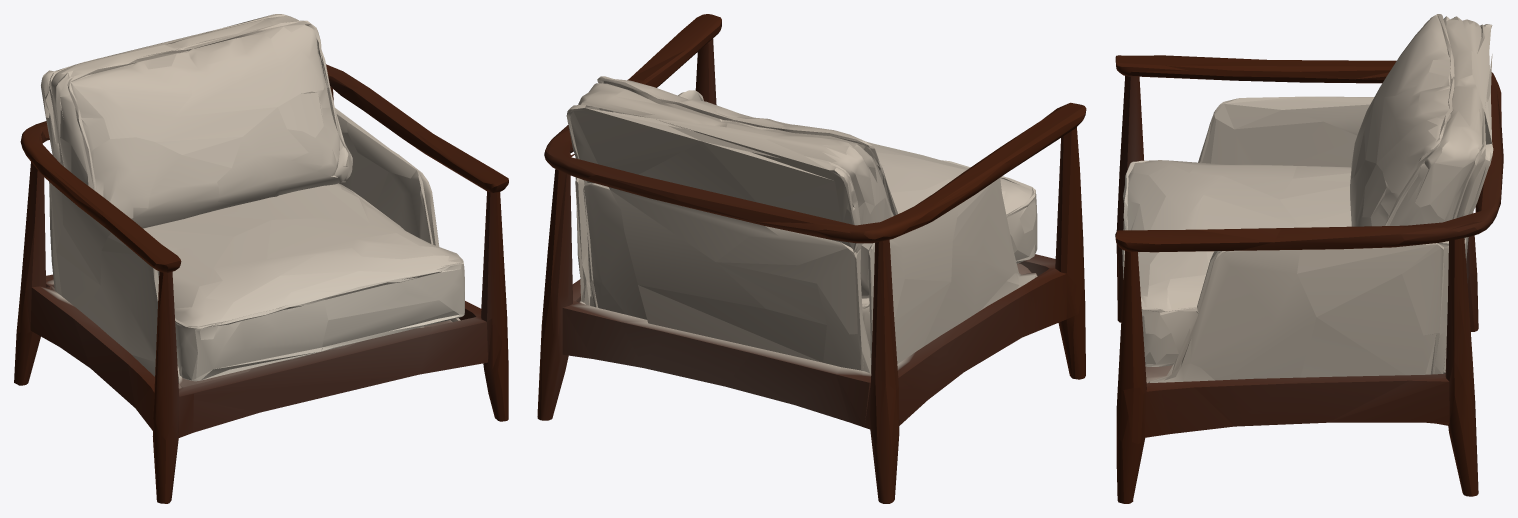
Rendered from chair.glb.
3 views of the same model, side by side, from view 1: azimuth 30°, elevation 25°; view 2: azimuth 150°, elevation 25°; view 3: azimuth 270°, elevation 25° (orthographic). The views are drawn at different scales.
Bounding box in the file's own units: 1.9 × 1.59 × 1.66.
